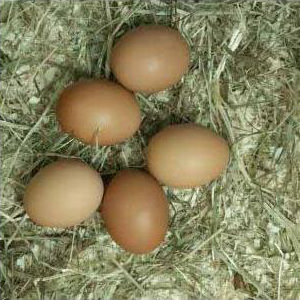egg: (101, 168, 168, 254), (23, 160, 105, 229), (145, 124, 231, 189), (58, 80, 141, 145), (110, 25, 190, 91)
